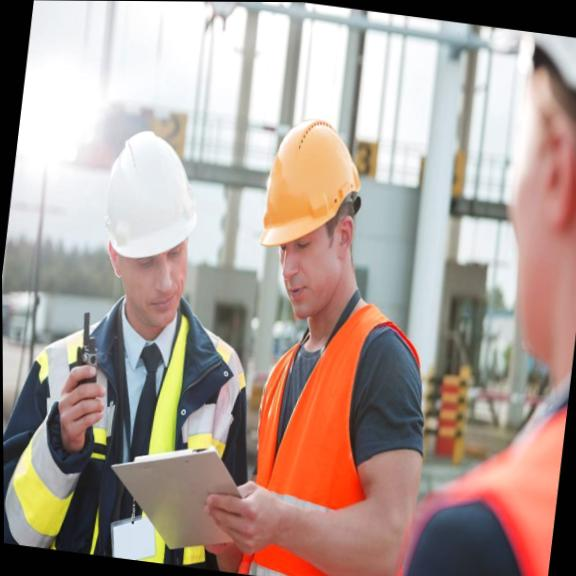safety_vest: (225, 300, 453, 576), (7, 344, 254, 572), (446, 363, 571, 576)
